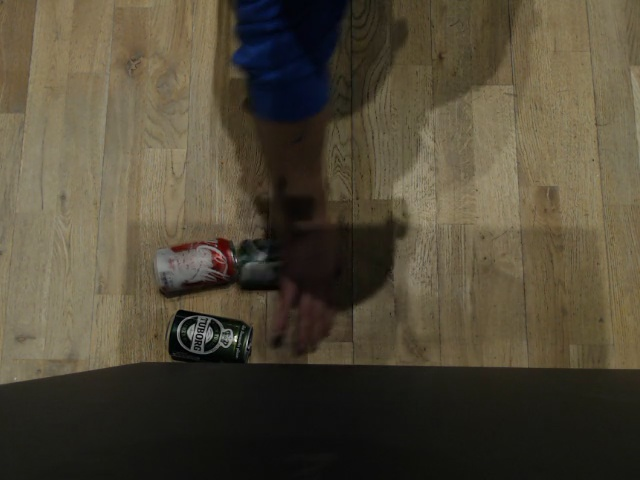beer: (160, 310, 255, 364)
cola: (130, 232, 223, 294)
